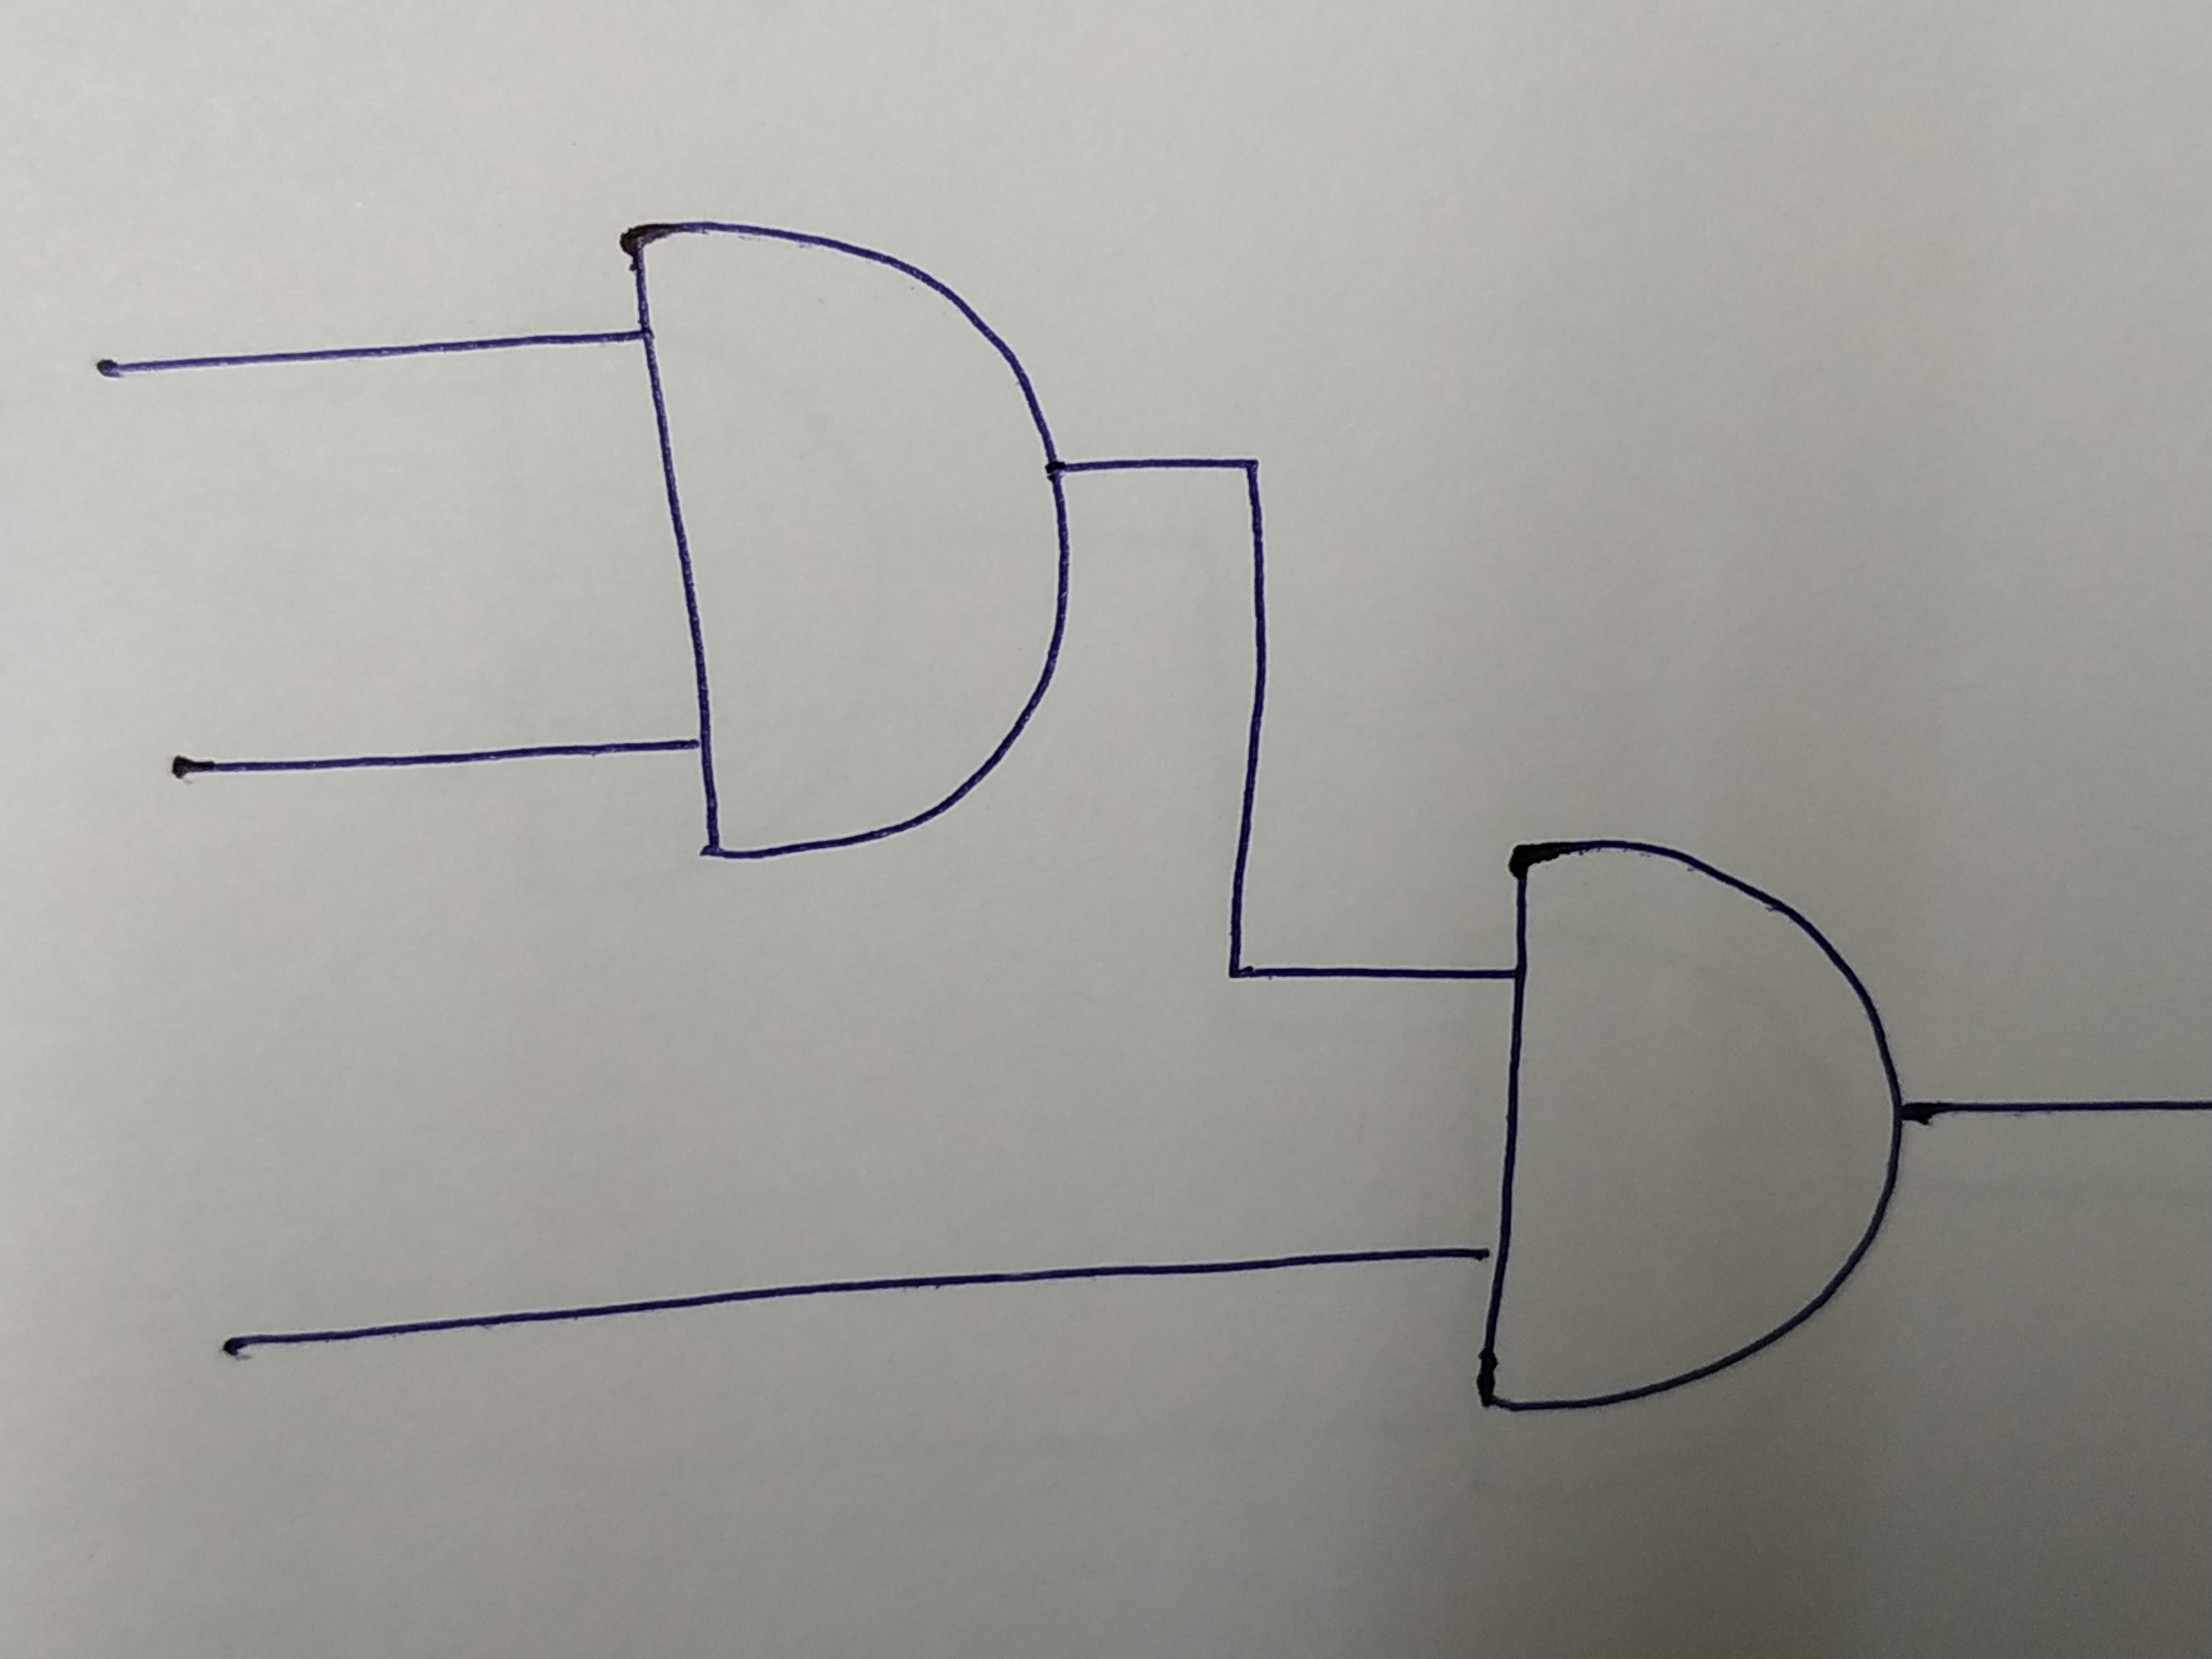and: (620, 220, 1066, 864), (1480, 836, 1905, 1413)
